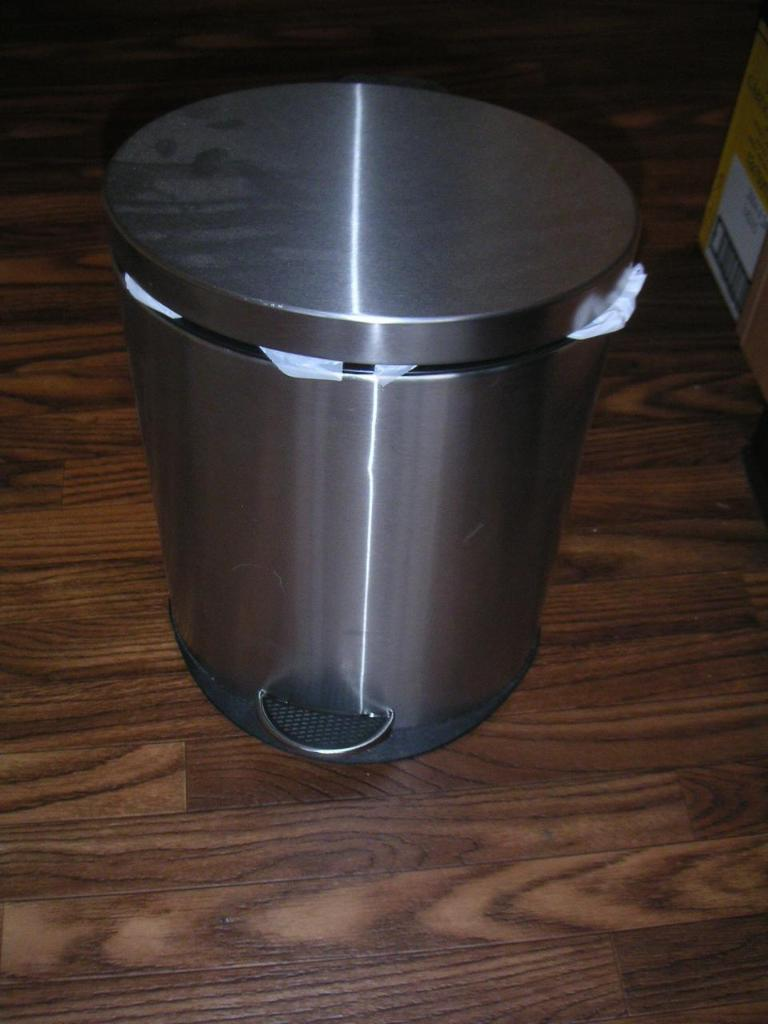dustbin: (90, 67, 672, 779)
